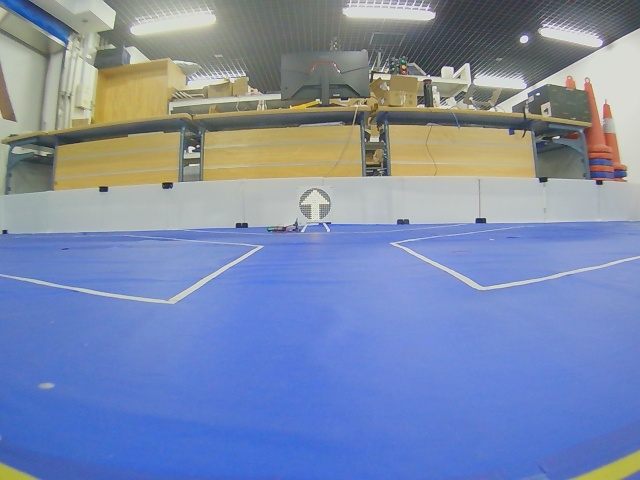straight_yellow: (299, 188, 331, 222)
